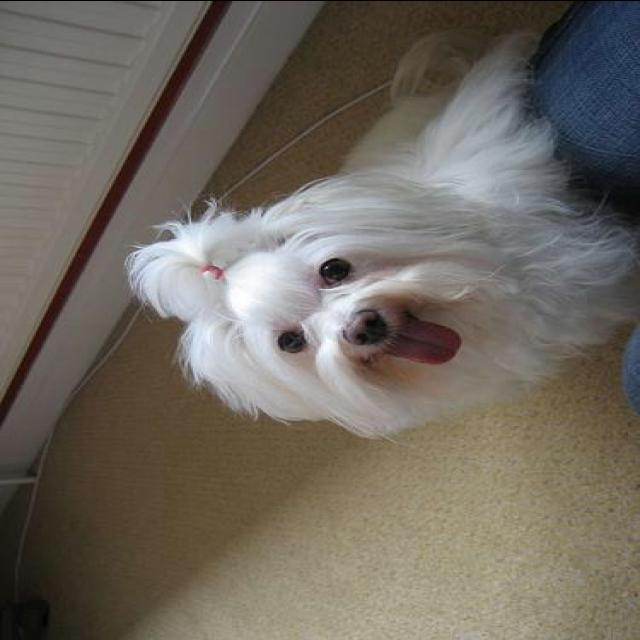maltese_dog: (121, 31, 638, 444)
